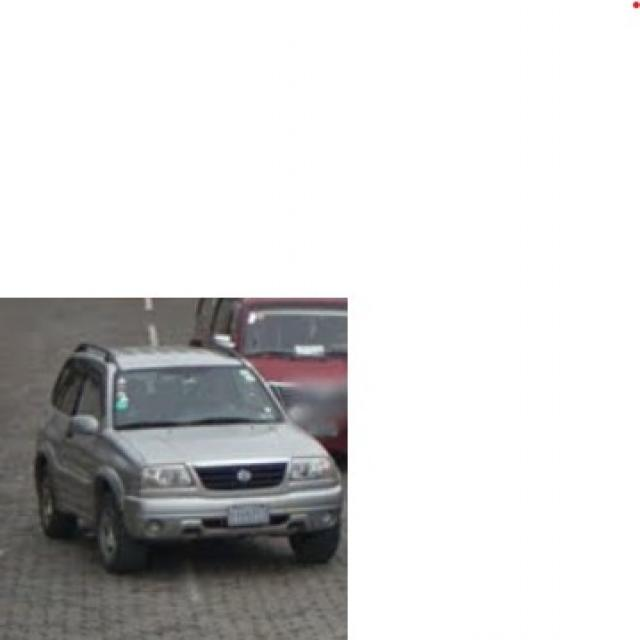cars: (43, 341, 348, 584)
